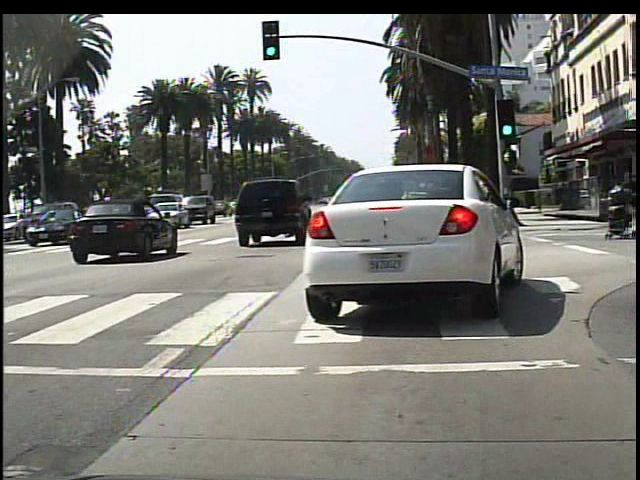person: (590, 163, 638, 241)
